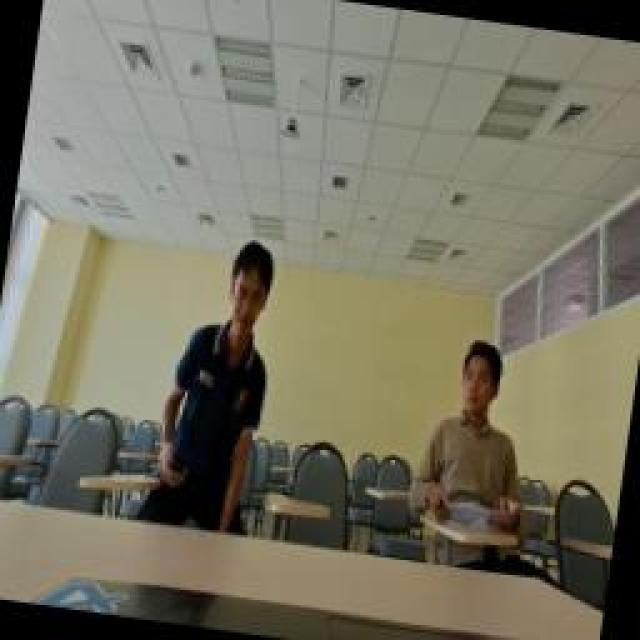study: (402, 322, 540, 530)
